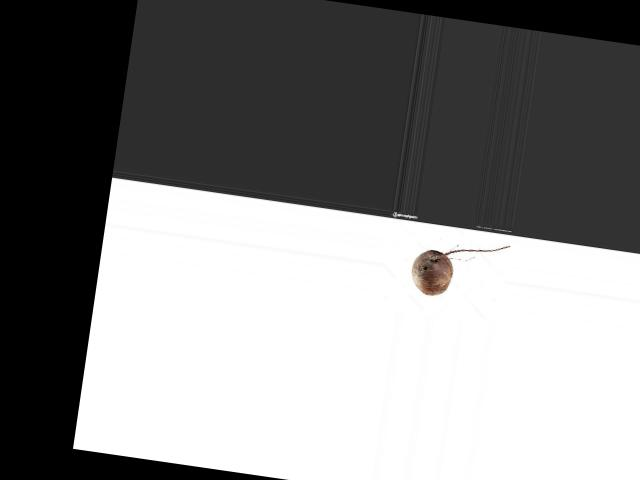beet: (409, 232, 511, 305)
